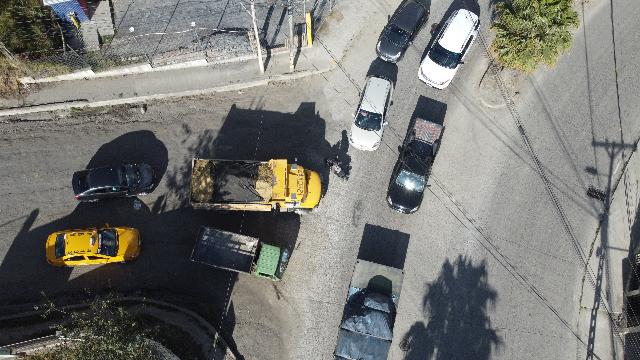Vehiculo: (386, 116, 446, 214), (418, 8, 480, 90), (46, 223, 140, 267), (72, 162, 156, 204), (348, 75, 394, 151), (376, 1, 430, 63), (255, 244, 289, 281)
